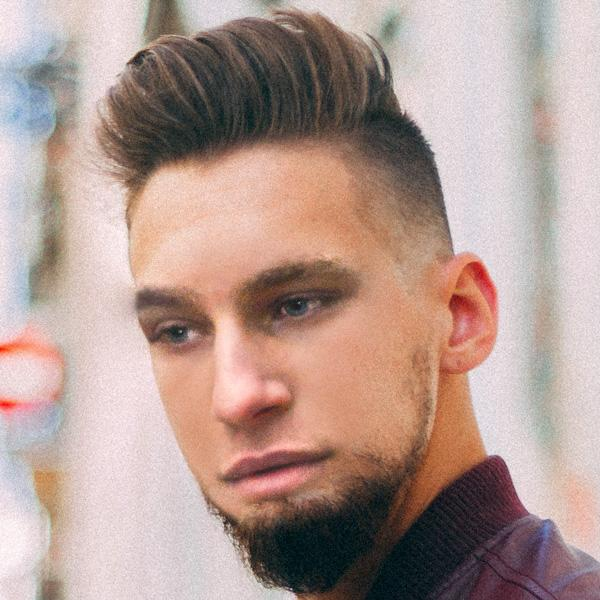Eyes: (259, 276, 345, 340), (142, 305, 215, 362)
